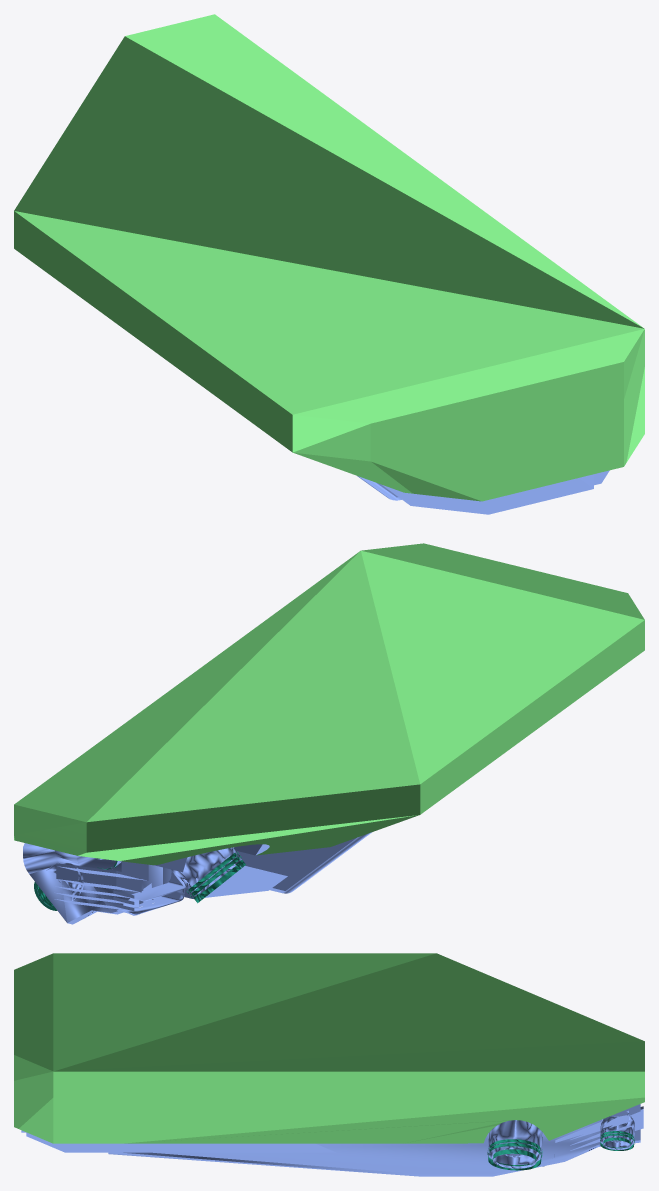
The model's file is plate_g_base.glb.
3 views of the same model, one above another, from view 1: azimuth 30°, elevation 25°; view 2: azimuth 150°, elevation 25°; view 3: azimuth 270°, elevation 25° (orthographic). The views are drawn at different scales.
Size of the model in its own units: 174 by 81.61 by 362.
